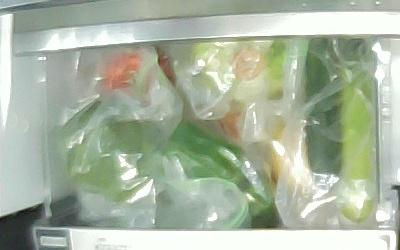apple_vinyl: (99, 49, 178, 108)
broccoli_vinyl: (59, 100, 160, 204)
cucumber_vinyl: (339, 37, 375, 225), (305, 37, 341, 191)
lettuce_vinyl: (190, 39, 286, 104)
paprika_vinyl: (163, 121, 272, 219)
